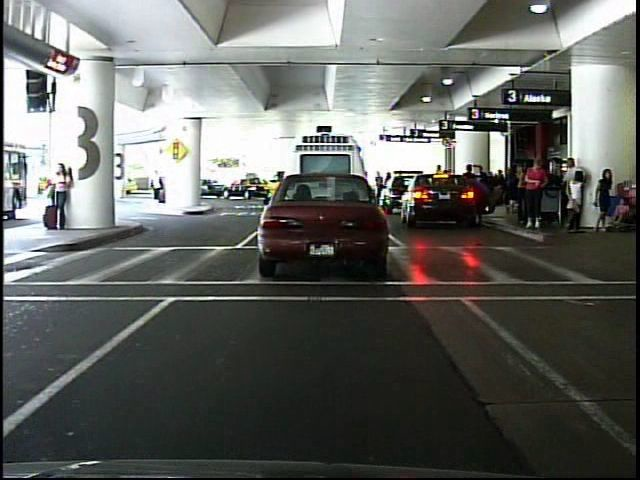person: (525, 154, 550, 232), (53, 160, 77, 232), (144, 163, 171, 206)
